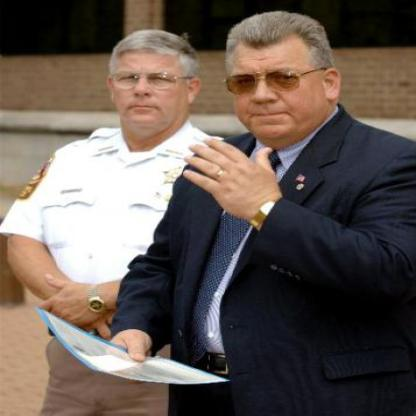face: (226, 18, 326, 144), (108, 32, 193, 129)
